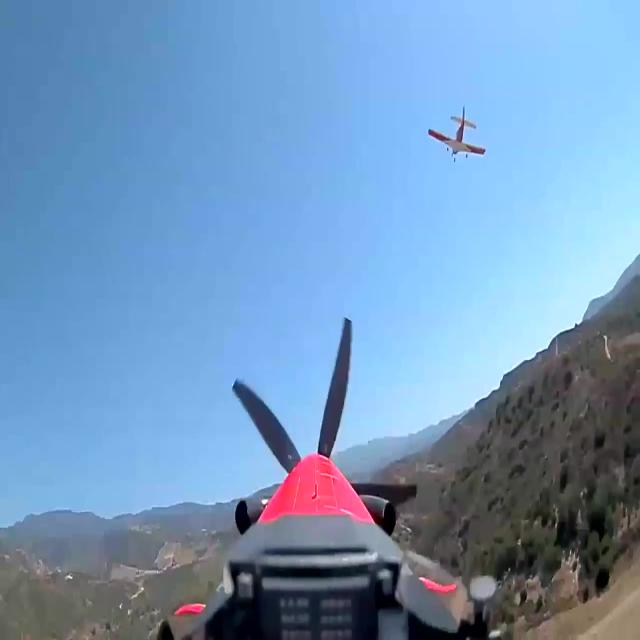iha: (420, 99, 480, 158)
